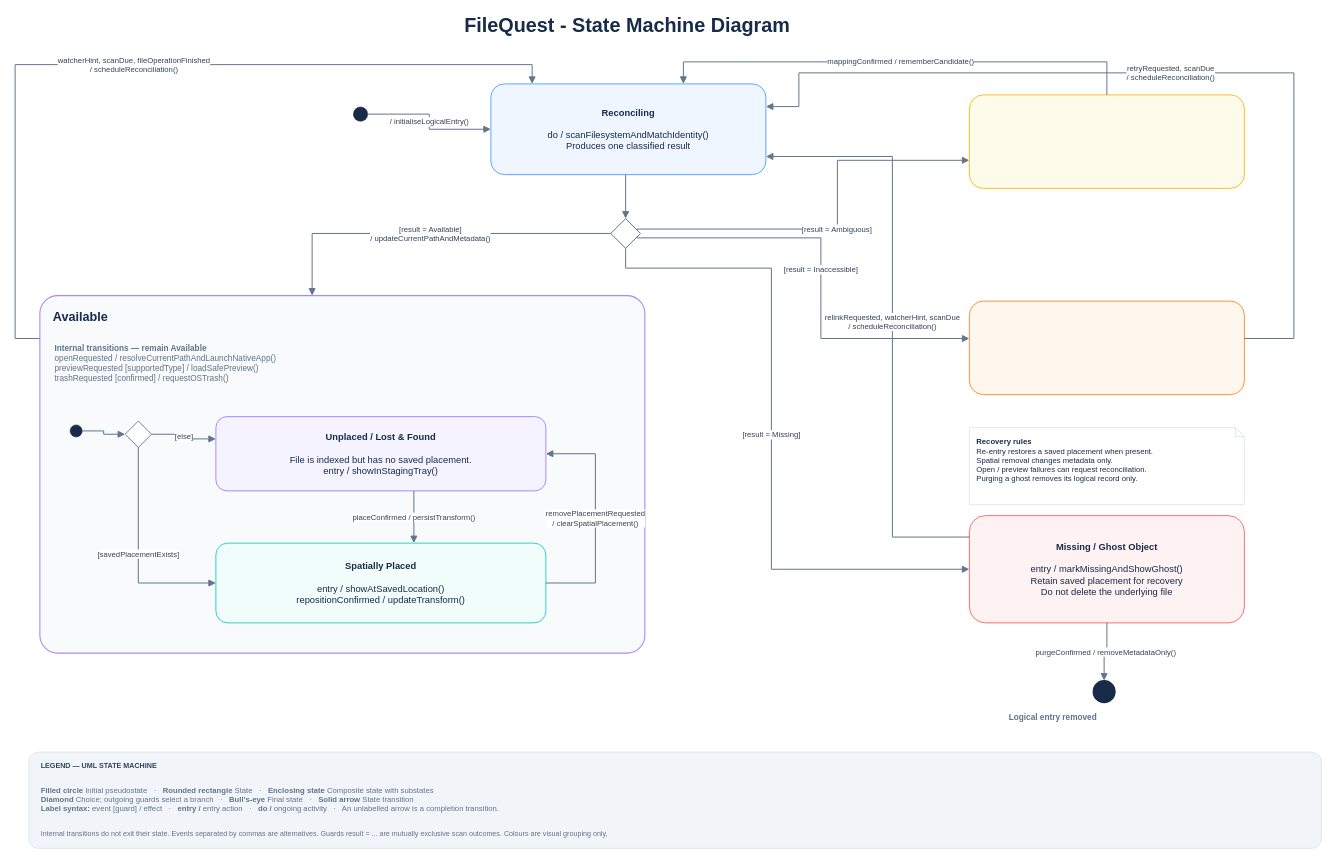
Image size: 1332x858. Some labels were removed from this diagram. Here are the shapes that lost their labels. From the top down, the centre of each, then its label:
At pixel 1107 141: "Needs Review entry / showAmbiguousCandidates() Wait for a user-confirmed mapping".
At pixel 1107 347: "Inaccessible entry / showAccessProblem() Retain identity and placement metadata".
